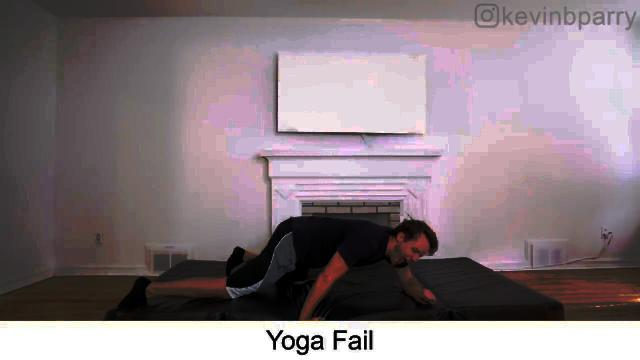jatuh: (104, 204, 442, 322)
